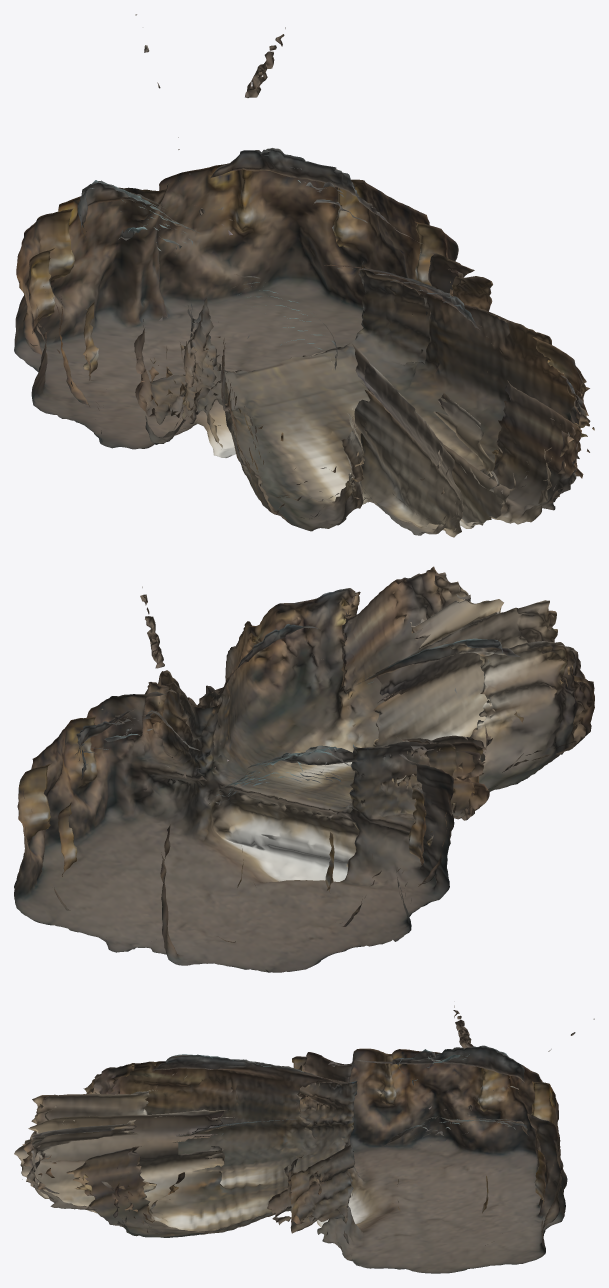
The model's file is gen-6.glb.
The picture shows the model from 3 angles, top to bottom: view 1: azimuth 30°, elevation 25°; view 2: azimuth 150°, elevation 25°; view 3: azimuth 270°, elevation 25°; orthographic projection. The views are drawn at different scales.
Parts seen in each view (by area): view 1: world; view 2: world; view 3: world.
Part boxes in pixels (left/top/right/bottom): world: left=14, top=14, right=594, bottom=537; world: left=14, top=566, right=594, bottom=972; world: left=14, top=1005, right=594, bottom=1273.
Size of the model in its own units: 9.37 by 8.16 by 17.09.
